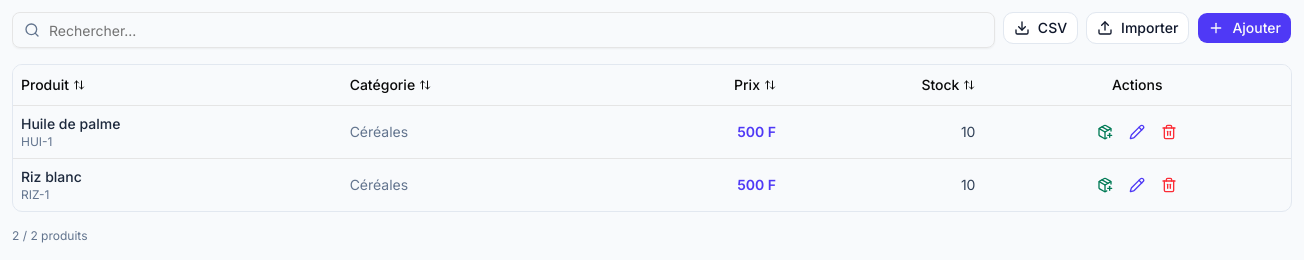
Scenario: InventoryTable › filtre la liste par la recherche
Type "huile" into the field named "Rechercher un produit". click: (503,30)
box: [12,12,995,48]
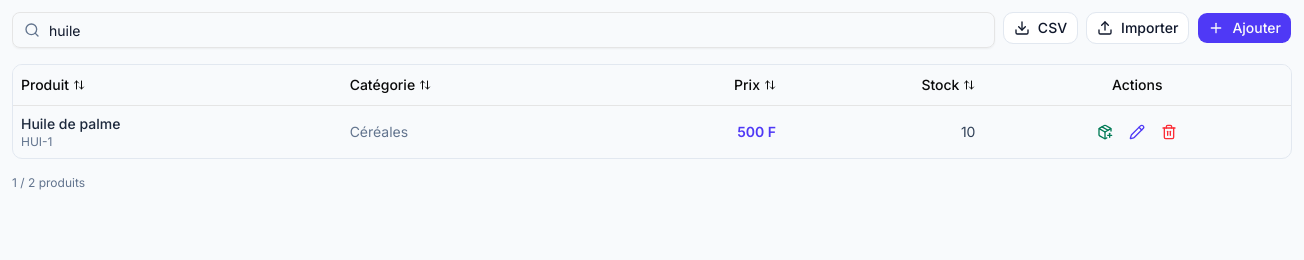
Expected: the text "Huile de palme" is shown, [21,114,120,132]
Now the text "Riz blanc" is gone
